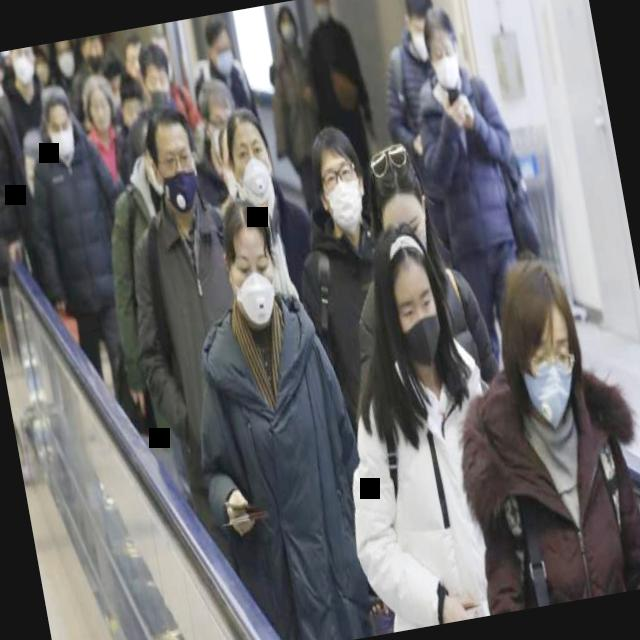Mask: (486, 252, 596, 440), (374, 218, 455, 372), (214, 196, 290, 330), (305, 116, 377, 242), (140, 102, 212, 224), (220, 100, 286, 220), (420, 0, 473, 99), (36, 78, 84, 168), (395, 0, 446, 68), (200, 11, 242, 79), (3, 46, 43, 97), (272, 4, 303, 51), (50, 39, 80, 83), (310, 0, 336, 27)
NO-Mask: (81, 70, 122, 142)
